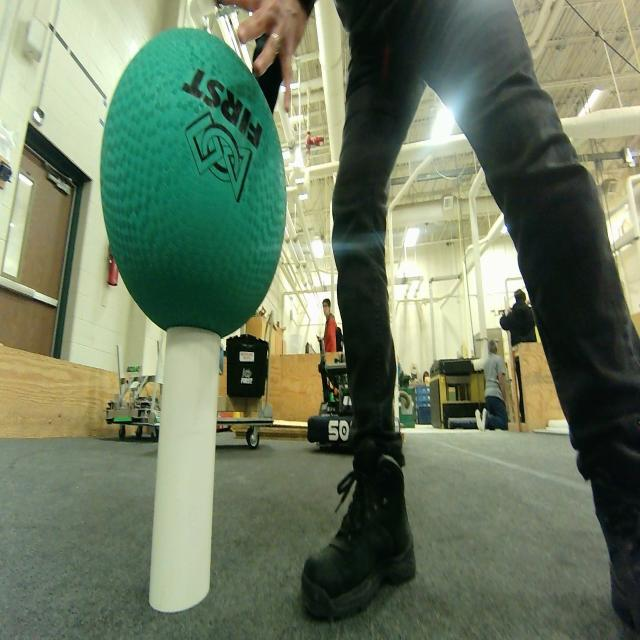algae: (100, 28, 287, 338)
coral: (150, 327, 220, 612)
